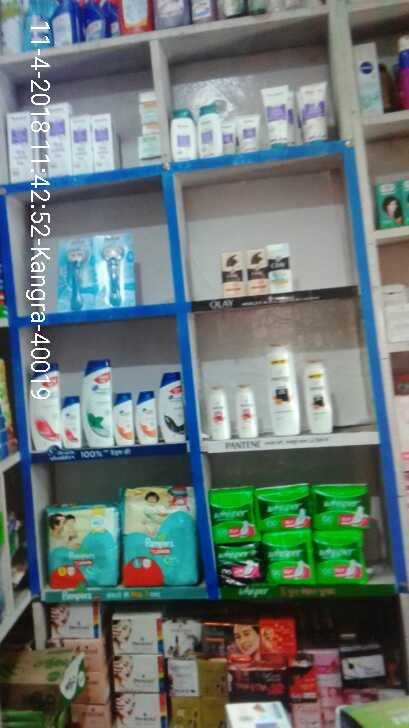venus: (97, 231, 139, 305), (62, 242, 97, 305)
